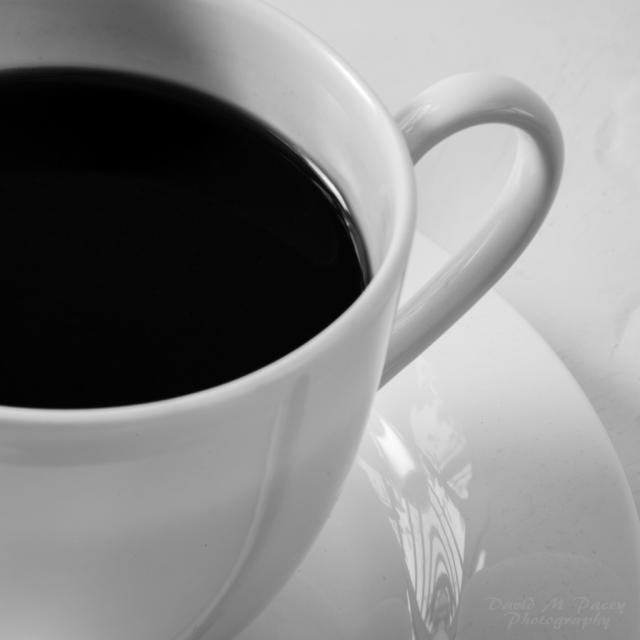Coffee: (0, 69, 374, 406)
Tea: (0, 68, 369, 410)
